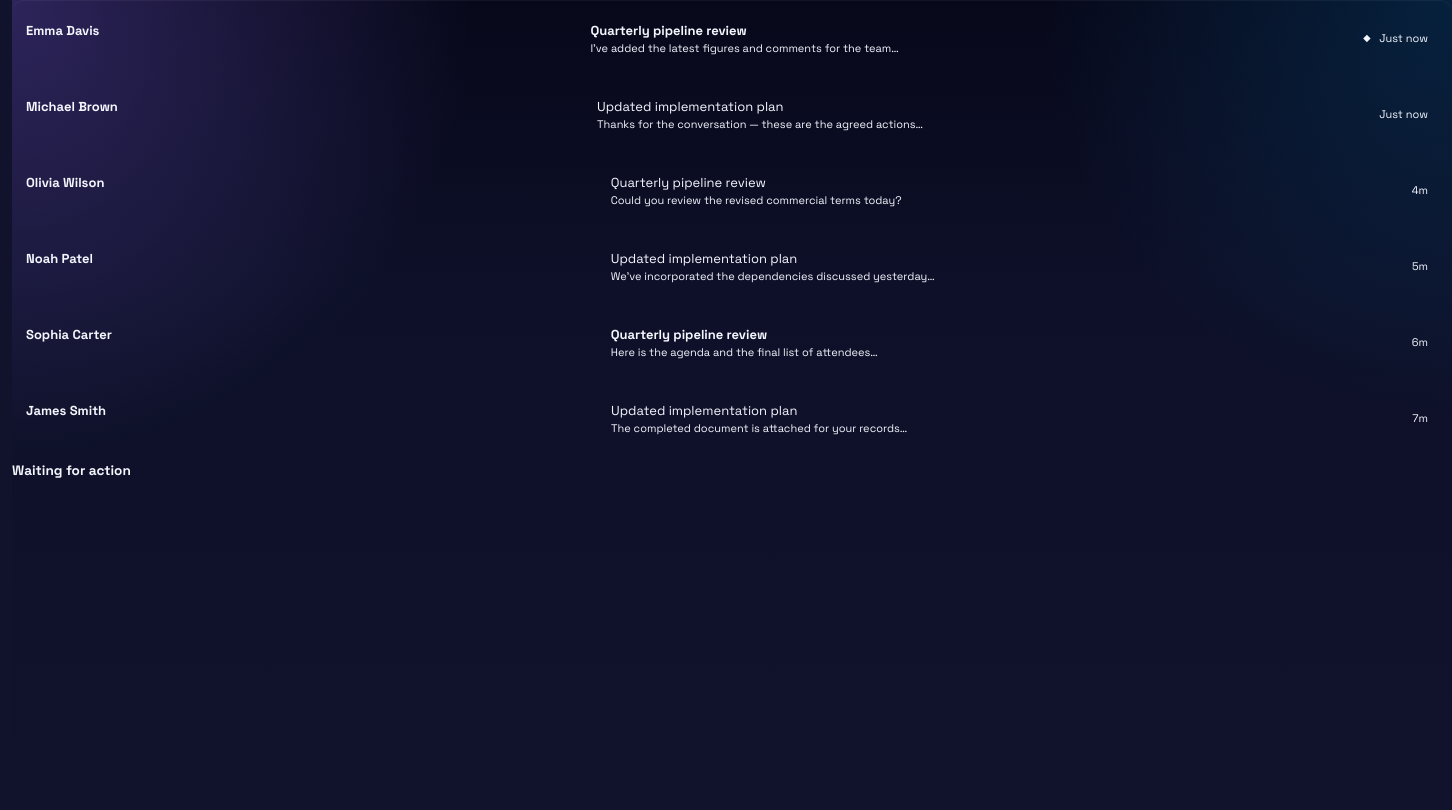
Scenario: InfiniteSelectableList › reports catalogue selection data outside the component
Press the mouse on the option that starts with "Emma Davis" at (727, 38), box [26, 22, 1428, 54]
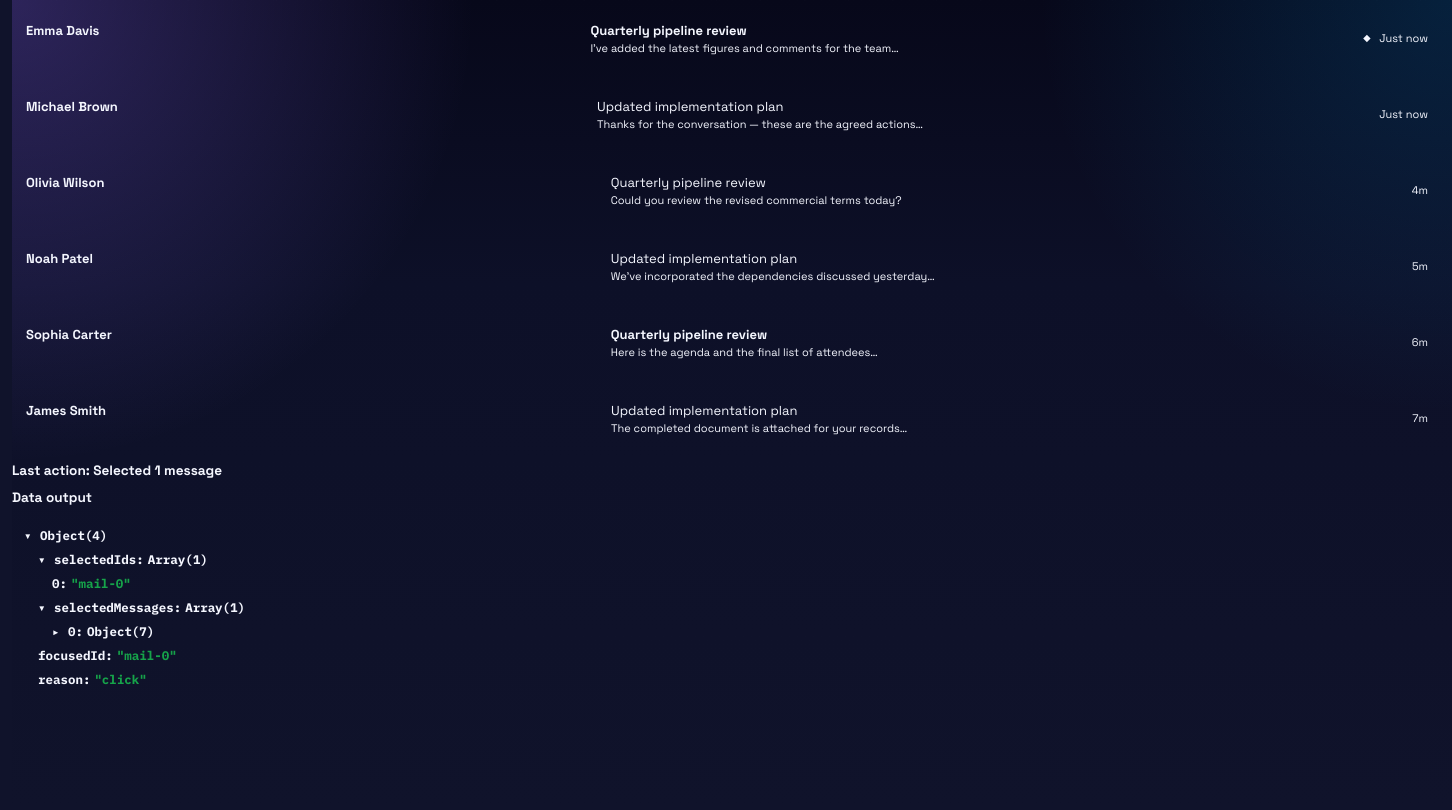
Now the text "Last action: Selected 1 message" is shown, box [12, 462, 222, 479]
Now the element with test id "control-preview-data" shows "mail-0", box [78, 575, 123, 591]
